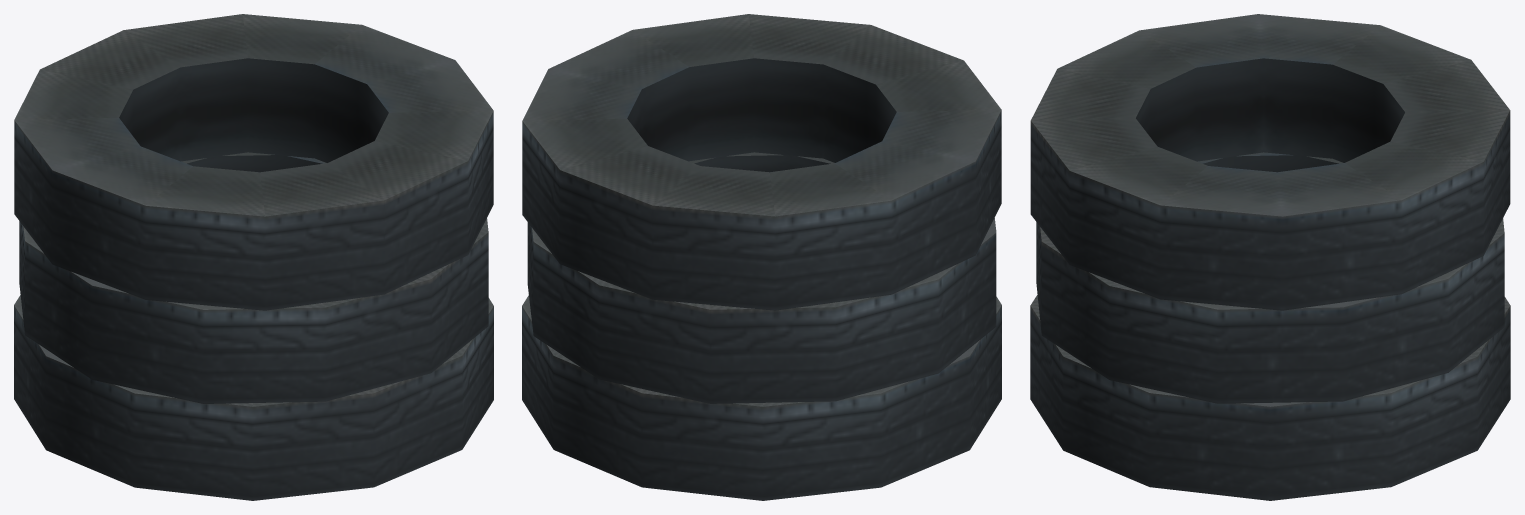
The picture shows the model from 3 angles, left to right: view 1: azimuth 30°, elevation 25°; view 2: azimuth 150°, elevation 25°; view 3: azimuth 270°, elevation 25°; orthographic projection.
Parts seen in each view (by area): view 1: wj_objects_01_3; view 2: wj_objects_01_3; view 3: wj_objects_01_3.
Part boxes in pixels (x1=…): wj_objects_01_3: x1=14, y1=14, x2=493, y2=500; wj_objects_01_3: x1=522, y1=14, x2=1001, y2=500; wj_objects_01_3: x1=1030, y1=14, x2=1510, y2=500.
Size of the model in its own units: 289 by 289 by 189.
